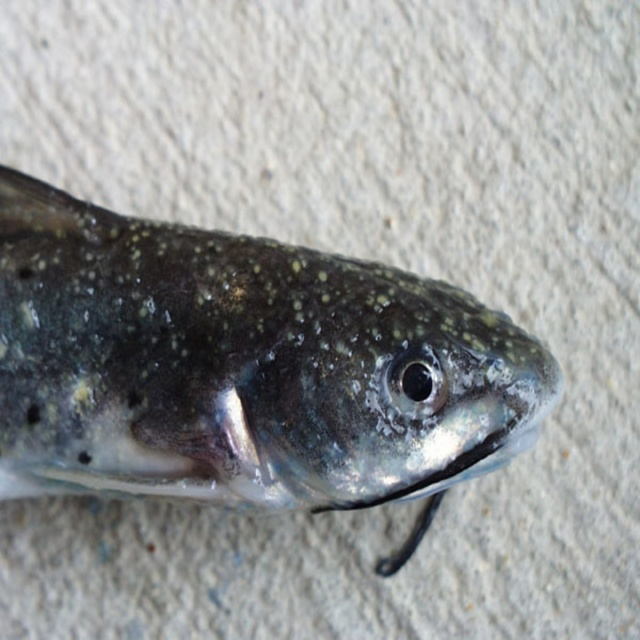Fish: (0, 165, 567, 521)
